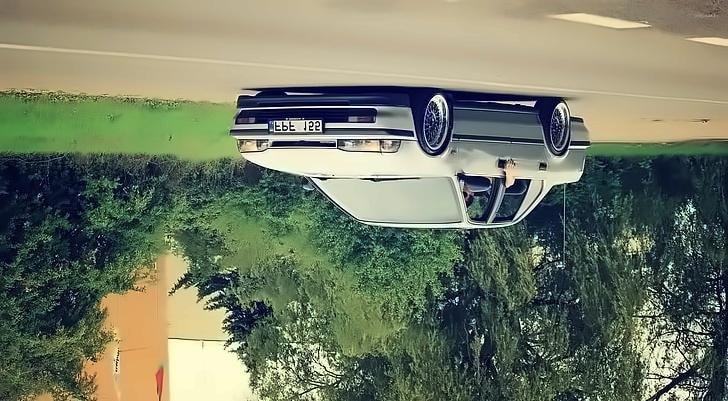Car hood: (241, 144, 453, 182)
Driver-s door - -F-R-: (450, 88, 518, 234)
Front bumper: (229, 88, 426, 144)
Headlight - -L-: (444, 91, 545, 146), (234, 138, 274, 154)
Headlight - -R-: (334, 136, 402, 154)
Passenger-s door - -R-R-: (489, 89, 552, 233)
Rear bumper: (561, 109, 594, 155)
Side mirror - -R-: (457, 169, 491, 195)
